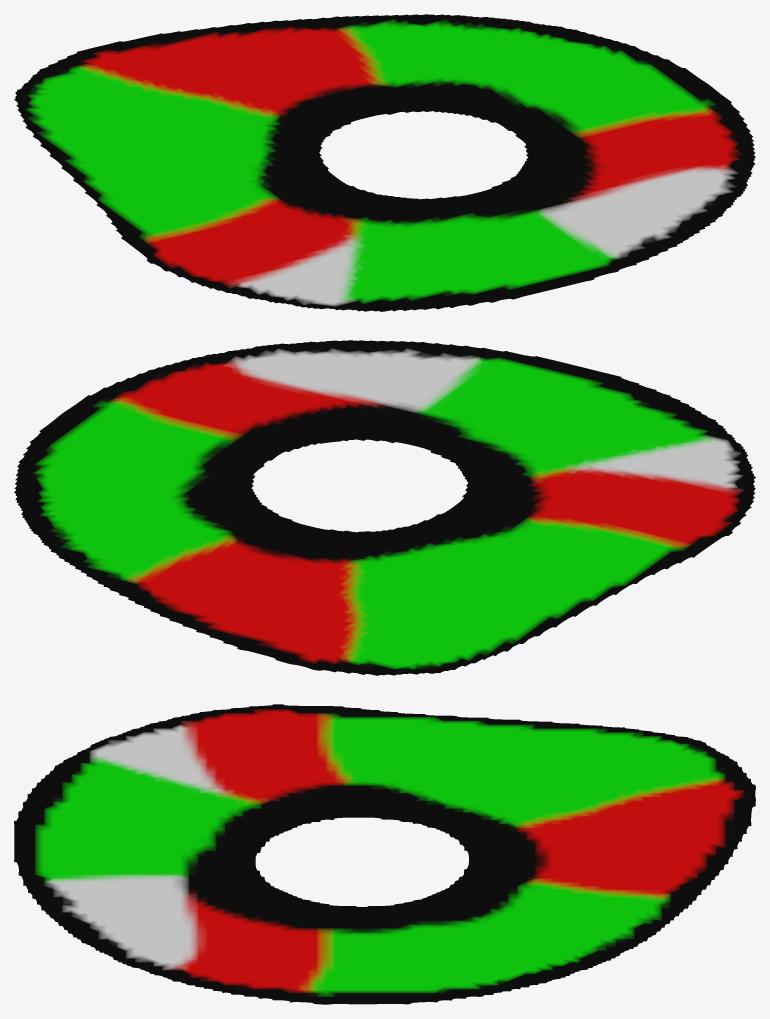
Rendered from GrassChunk.fbx.
3 renders of one model, top to bottom at view 1: azimuth 30°, elevation 25°; view 2: azimuth 150°, elevation 25°; view 3: azimuth 270°, elevation 25°, orthographic. The views are drawn at different scales.
Parts seen in each view (by area): view 1: Cube.001; view 2: Cube.001; view 3: Cube.001.
Part boxes in pixels (<box>): Cube.001: <box>14,14,755,311</box>; Cube.001: <box>14,340,755,675</box>; Cube.001: <box>14,704,755,1004</box>.
Size of the model in its own units: 1562 by 1.3 by 1632.
